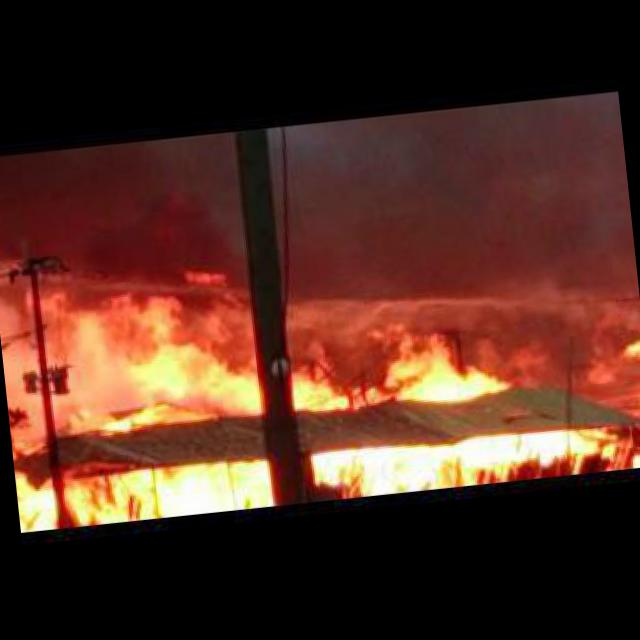fire: (18, 279, 262, 446), (283, 311, 512, 420), (310, 419, 622, 499), (14, 444, 273, 530), (625, 336, 640, 361)
